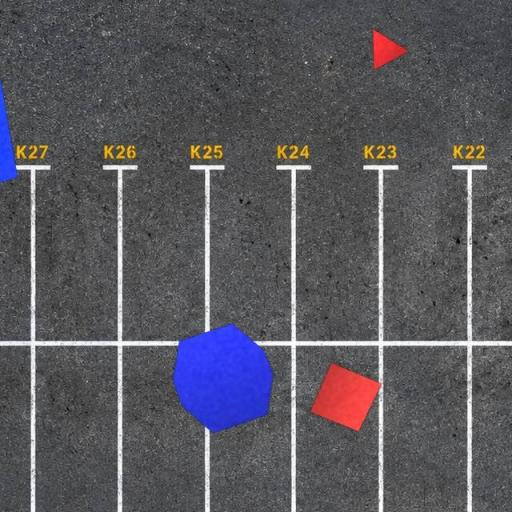RED_SQUARE: (309, 362, 383, 432)
